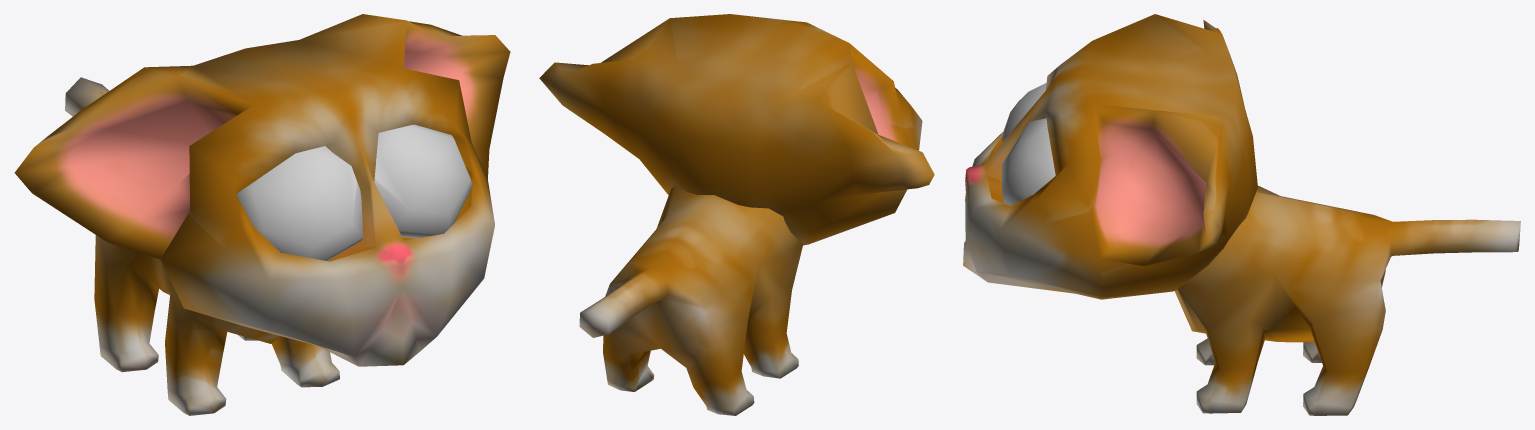
The model's file is Cat.fbx.
3 views of the same model, side by side, from view 1: azimuth 30°, elevation 25°; view 2: azimuth 150°, elevation 25°; view 3: azimuth 270°, elevation 25° (orthographic). The views are drawn at different scales.
Visible parts, largest first — view 1: Cat; view 2: Cat; view 3: Cat.
Boxes of the visible parts, x1,y1,x2,y2 form: Cat: (14, 14, 510, 415); Cat: (539, 14, 934, 415); Cat: (963, 14, 1520, 415).
Size of the model in its own units: 153 by 109 by 172.
